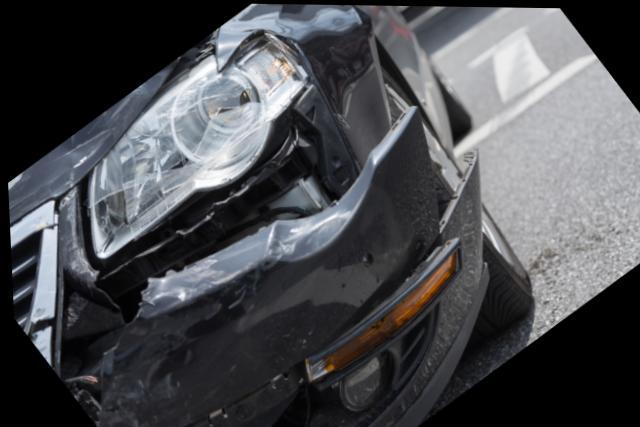dent: (6, 55, 180, 224), (215, 3, 384, 152)
dislocated part: (67, 88, 489, 427)
lamp broken: (82, 28, 311, 261)
scratch: (97, 231, 297, 427)
